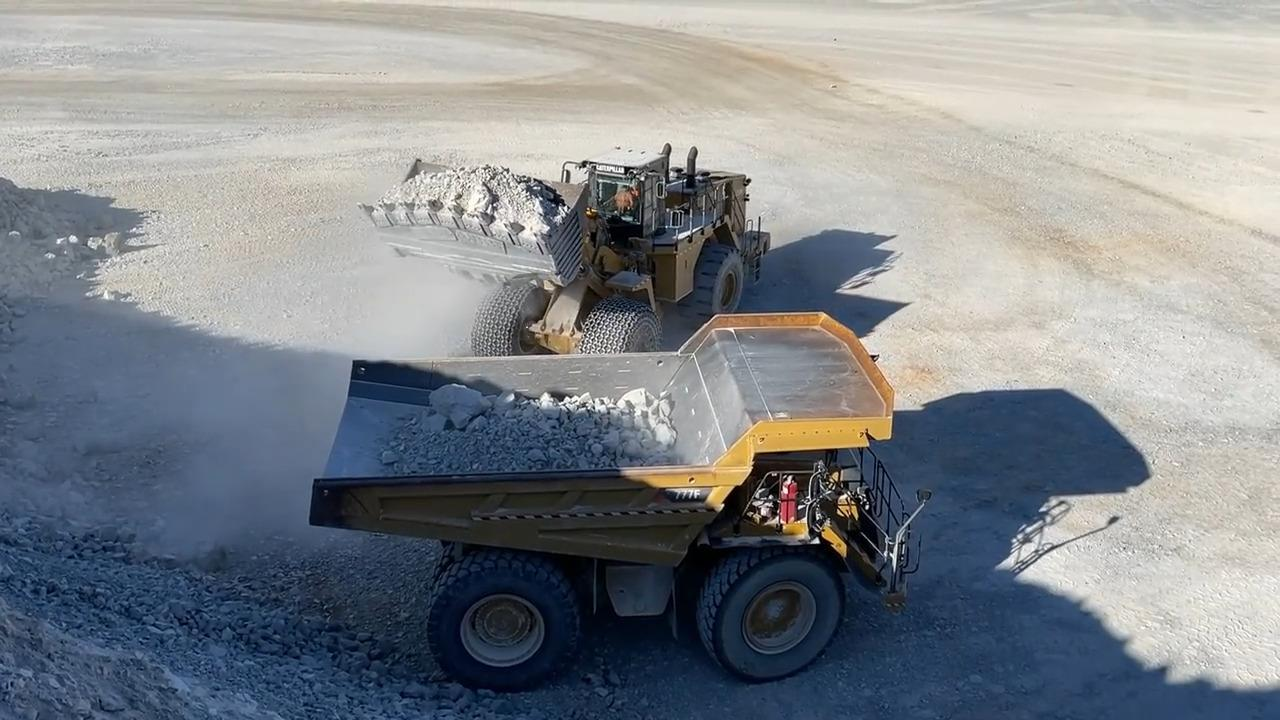dump truck: (302, 307, 937, 689)
wheel loader: (357, 142, 784, 375)
